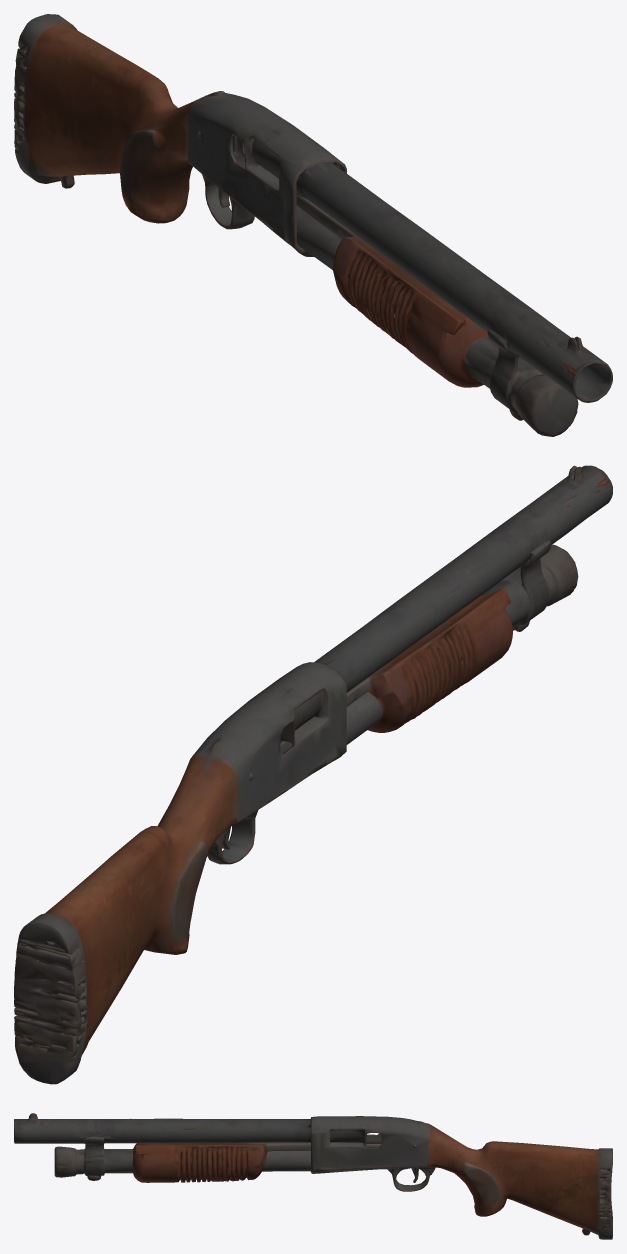
Rendered from shotgun.glb.
The picture shows the model from 3 angles, top to bottom: view 1: azimuth 30°, elevation 25°; view 2: azimuth 150°, elevation 25°; view 3: azimuth 270°, elevation 25°; orthographic projection. The views are drawn at different scales.
Visible parts, largest first — view 1: shotgun; view 2: shotgun; view 3: shotgun.
Part boxes in pixels (x1,y1,x2,y2): shotgun: (14,14,612,436); shotgun: (14,465,612,1084); shotgun: (14,1113,612,1239).
Bounding box in the file's own units: 0.0782 × 0.2278 × 1.
Materials: 1 (1 with a texture image).
